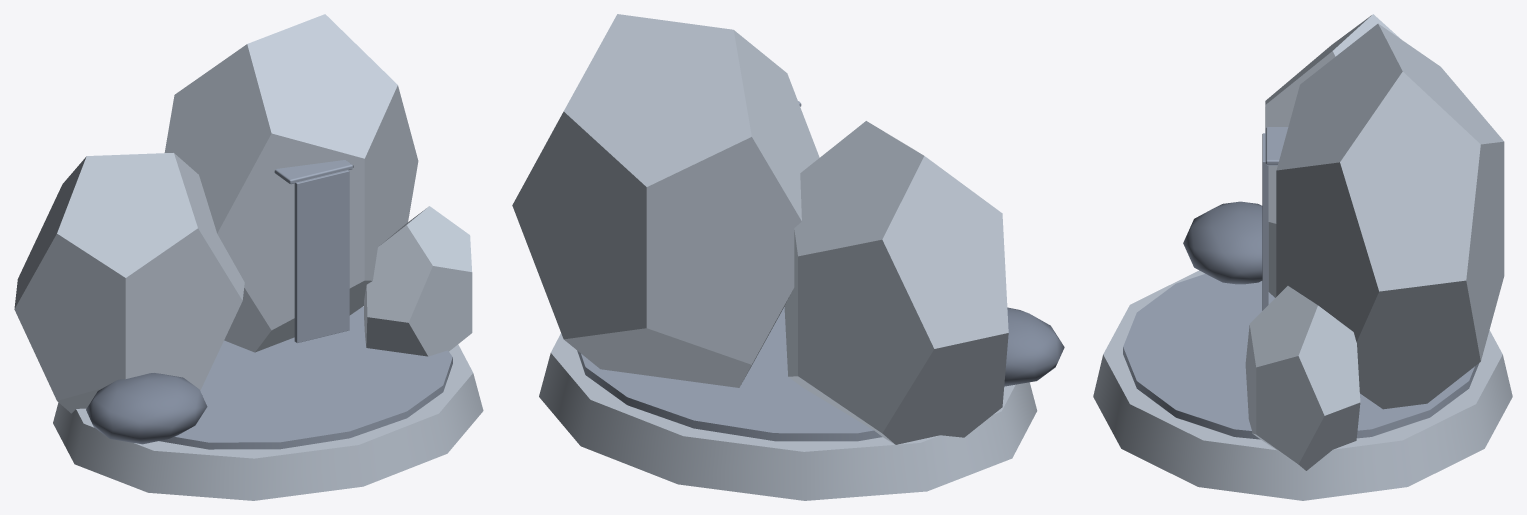
Rendered from garden-rock-water-lite.glb.
3 renders of one model, left to right at view 1: azimuth 30°, elevation 25°; view 2: azimuth 150°, elevation 25°; view 3: azimuth 270°, elevation 25°, orthographic. The views are drawn at different scales.
Visible parts, largest first — view 1: garden-rock-water; view 2: garden-rock-water; view 3: garden-rock-water.
Part boxes in pixels (bbox=[...]): garden-rock-water: bbox=[14, 14, 483, 500]; garden-rock-water: bbox=[512, 14, 1064, 500]; garden-rock-water: bbox=[1093, 14, 1512, 500].
Bounding box in the file's own units: 2.1 × 1.6 × 1.6.
